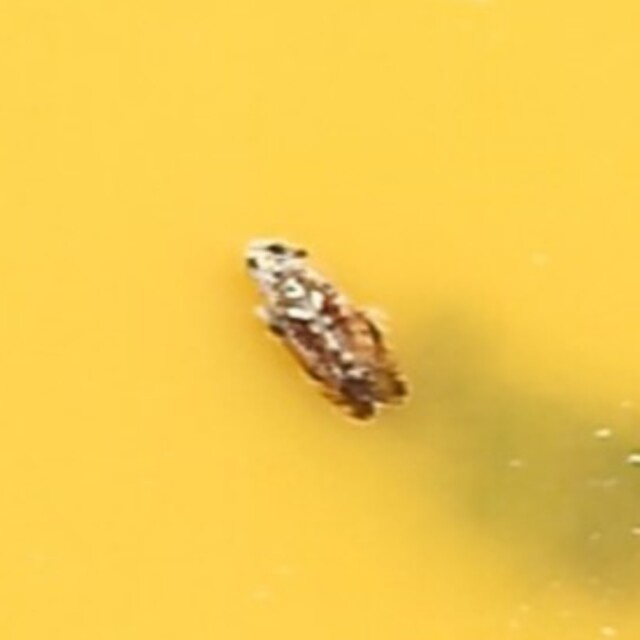Hemiptera: (233, 219, 407, 421)
